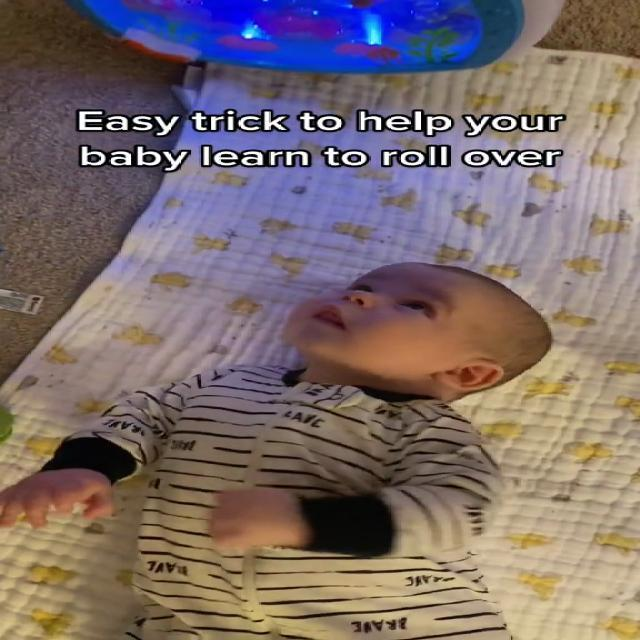baby: (0, 255, 548, 640)
